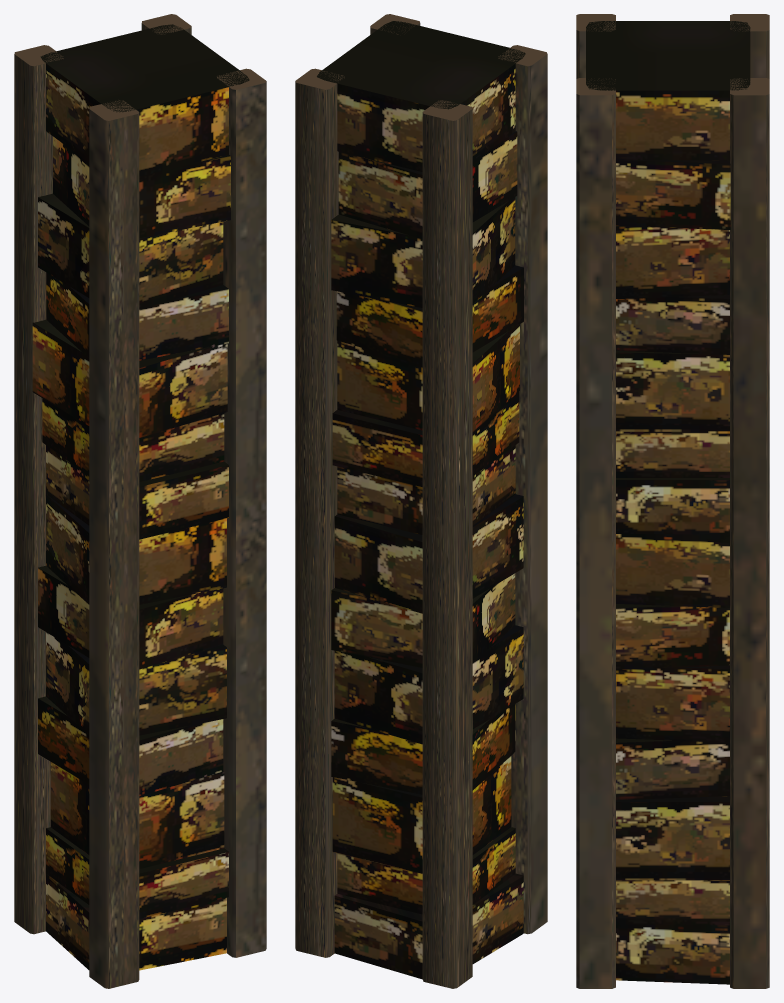
Rendered from stoneColumnB.fbx.
3 views of the same model, side by side, from view 1: azimuth 30°, elevation 25°; view 2: azimuth 150°, elevation 25°; view 3: azimuth 270°, elevation 25° (orthographic). The views are drawn at different scales.
Visible parts, largest first — view 1: stoneColumnB; view 2: stoneColumnB; view 3: stoneColumnB.
Boxes of the visible parts, left/top/right/bottom form: stoneColumnB: left=14, top=14, right=266, bottom=988; stoneColumnB: left=295, top=14, right=547, bottom=988; stoneColumnB: left=576, top=14, right=769, bottom=988.
Bounding box in the file's own units: 0.5846 × 3 × 0.5889.
Materials: 2 (2 with a texture image).
